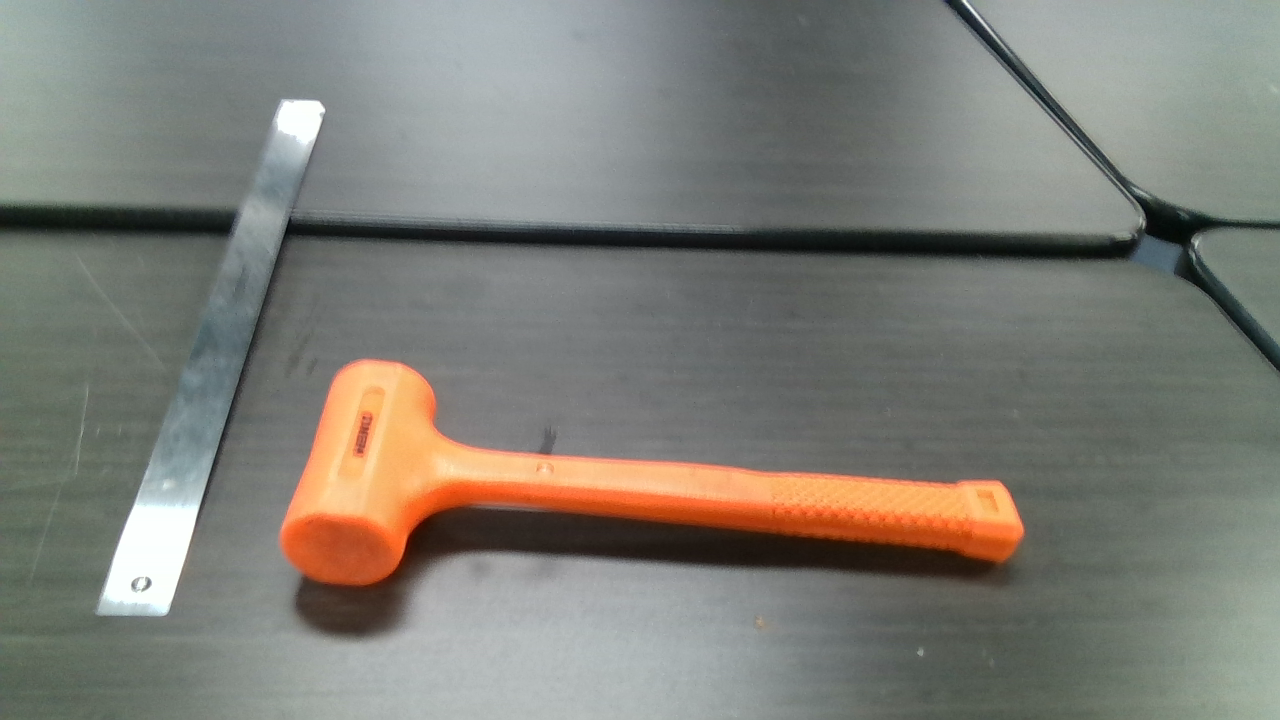Orange Hammer: (289, 357, 1023, 587)
